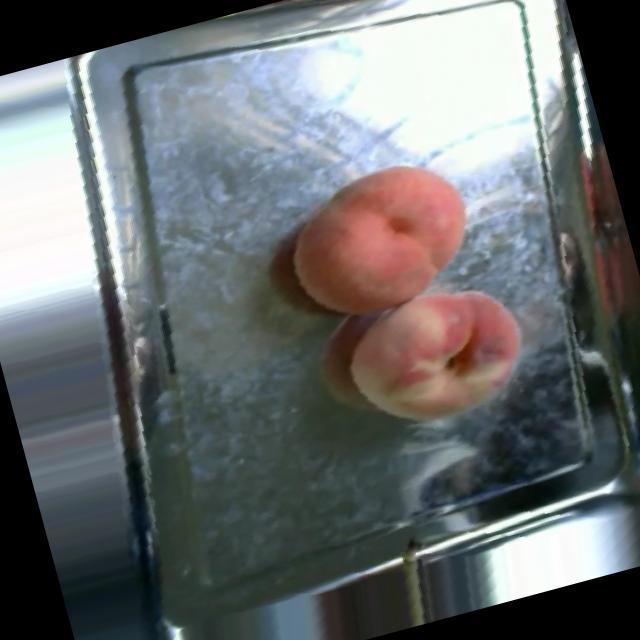Fruit: (262, 136, 498, 338), (326, 262, 549, 449)
